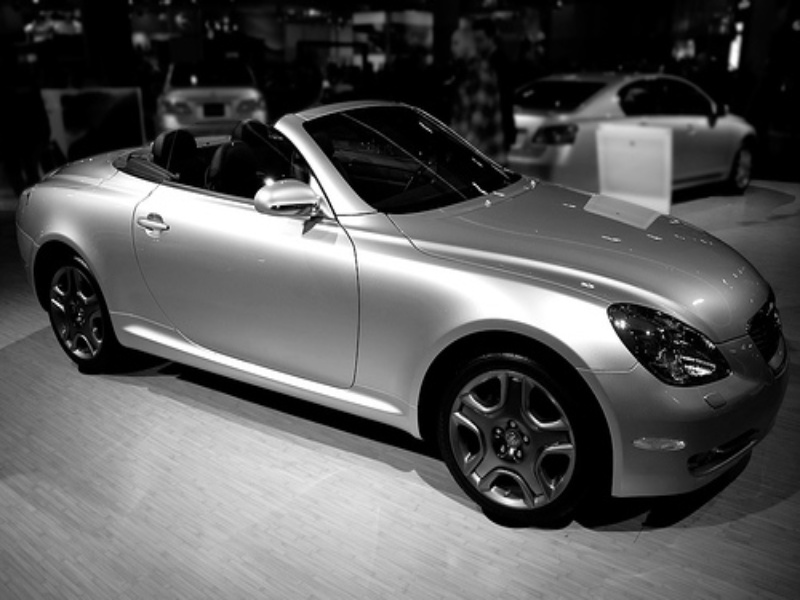car: (14, 99, 793, 521), (510, 68, 757, 197), (154, 61, 267, 125)
person: (448, 30, 507, 161)
